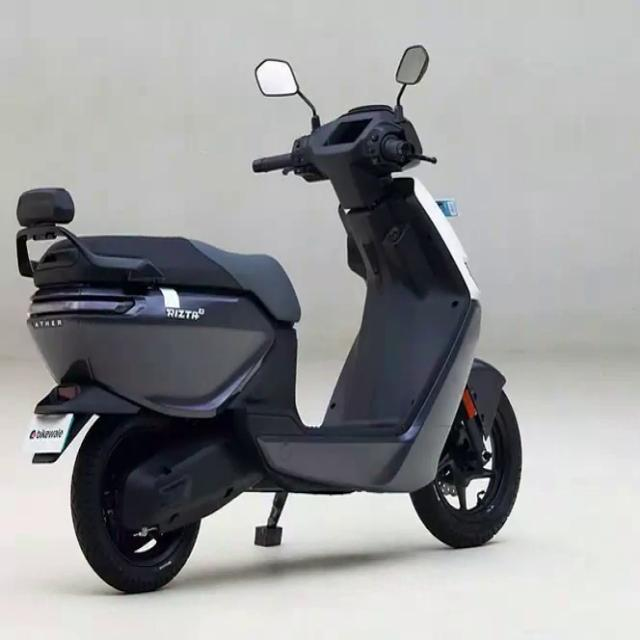objects: (14, 40, 531, 597)
